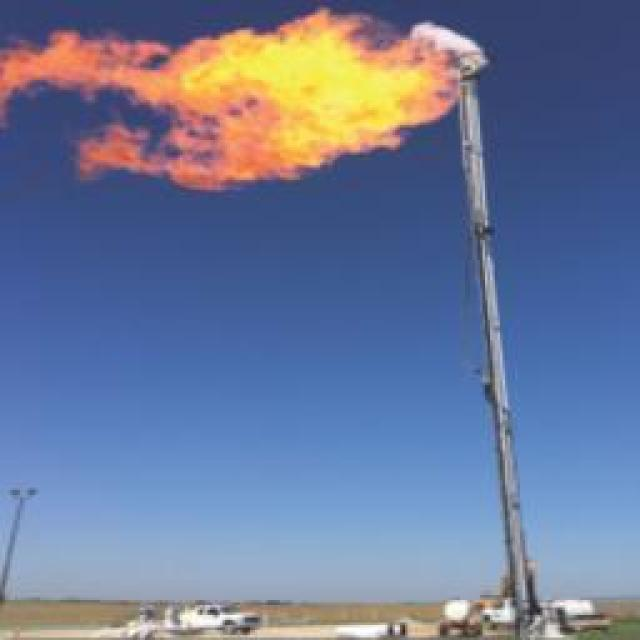fire: (0, 7, 458, 191)
